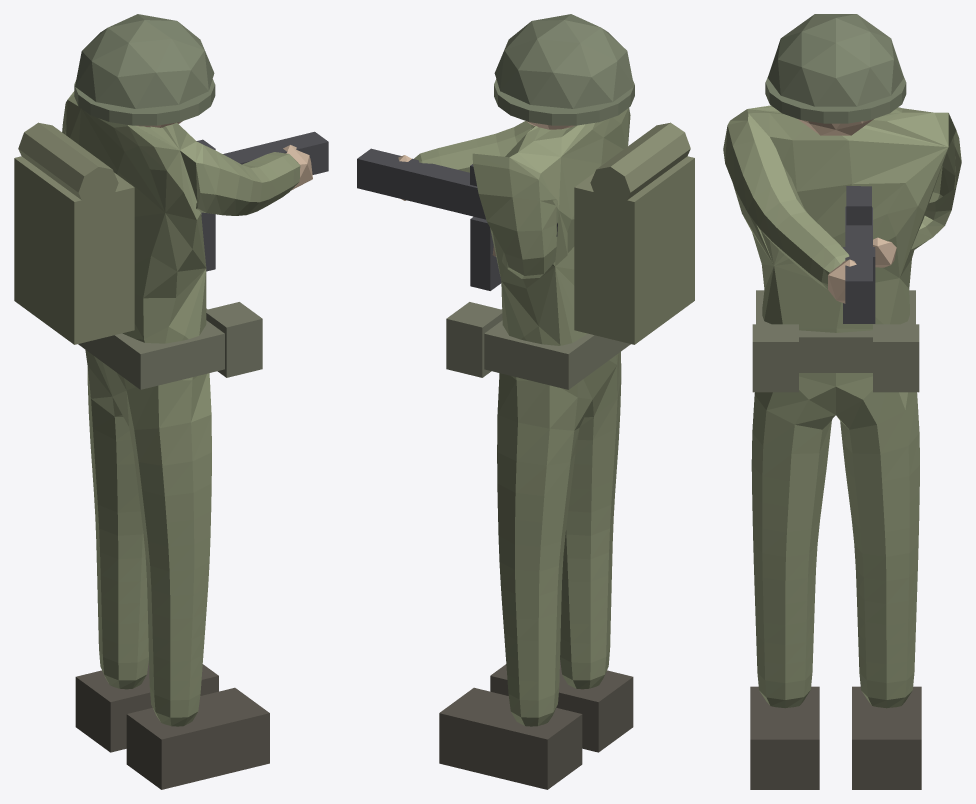
Rendered from trooper.glb.
3 renders of one model, left to right at view 1: azimuth 30°, elevation 25°; view 2: azimuth 150°, elevation 25°; view 3: azimuth 270°, elevation 25°, orthographic.
Visible parts, largest first — view 1: trooper; view 2: trooper; view 3: trooper.
Part boxes in pixels (bbox=[...]): trooper: bbox=[14, 14, 328, 789]; trooper: bbox=[357, 14, 694, 789]; trooper: bbox=[723, 14, 961, 789].
Size of the model in its own units: 0.72 by 1.74 by 0.5148.
